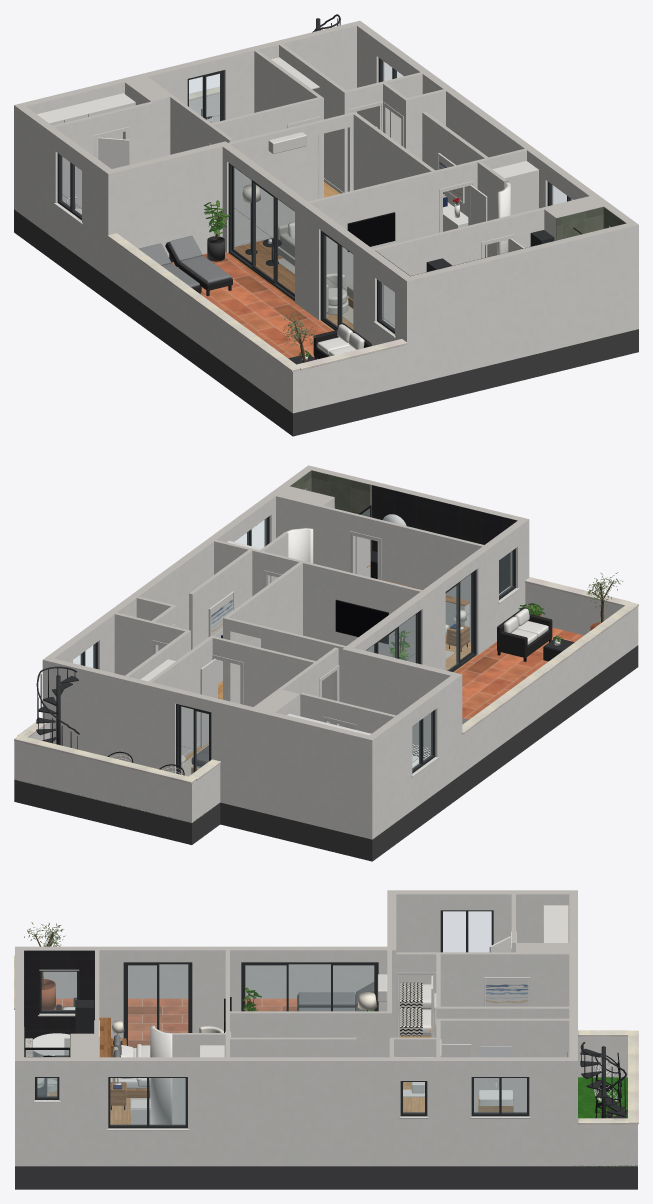
The model's file is villa.glb.
The picture shows the model from 3 angles, top to bottom: view 1: azimuth 30°, elevation 25°; view 2: azimuth 150°, elevation 25°; view 3: azimuth 270°, elevation 25°; orthographic projection. The views are drawn at different scales.
Parts seen in each view (by area): view 1: grupo_Pared_Enlucido_Alto+Pared_Corte_Alto, grupo_Pared_Enlucido+Pared_Corte, grupo_Base_Maqueta, grupo_Lacado_Blanco_Alto, grupo_Suelo_Barro_Cocido, grupo_Albardilla_Piedra, grupo_Aluminio_Grafito_Alto, Muro Oeste Salon slide 3 vidrio, Muro Oeste Salon slide 3 vidrio alto, grupo_Aluminio_Grafito, grupo_Cojin_Gris, grupo_Porcelanico_Oliva_Alto (+11 smaller); view 2: grupo_Pared_Enlucido_Alto+Pared_Corte_Alto, grupo_Pared_Enlucido+Pared_Corte, grupo_Base_Maqueta, grupo_Albardilla_Piedra, grupo_Porcelanico_Negro_Alto, grupo_Suelo_Barro_Cocido, grupo_Lacado_Blanco_Alto, grupo_Aluminio_Grafito_Alto, grupo_Porcelanico_Oliva_Alto, grupo_Antracita, grupo_Rattan_Sintetico, grupo_Aluminio_Grafito (+11 smaller); view 3: grupo_Pared_Enlucido_Alto+Pared_Corte_Alto, grupo_Pared_Enlucido+Pared_Corte, grupo_Base_Maqueta, Muro Oeste Salon slide 3 vidrio alto, grupo_Aluminio_Grafito_Alto, grupo_Suelo_Barro_Cocido, grupo_Lacado_Blanco_Alto, Muro Este window 2 vidrio alto, grupo_Porcelanico_Negro_Alto, Muro Oeste Salon slide 2 vidrio alto, Muro Oeste Dormitorio window 1 vidrio alto, grupo_Albardilla_Piedra (+23 smaller).
Boxes of the visible parts, x1=… form: grupo_Pared_Enlucido_Alto+Pared_Corte_Alto: x1=14, y1=20, x2=638, y2=338; grupo_Pared_Enlucido+Pared_Corte: x1=14, y1=83, x2=638, y2=413; grupo_Base_Maqueta: x1=14, y1=209, x2=638, y2=436; grupo_Lacado_Blanco_Alto: x1=37, y1=57, x2=538, y2=258; grupo_Suelo_Barro_Cocido: x1=171, y1=252, x2=332, y2=359; grupo_Albardilla_Piedra: x1=107, y1=86, x2=407, y2=371; grupo_Aluminio_Grafito_Alto: x1=57, y1=58, x2=571, y2=315; Muro Oeste Salon slide 3 vidrio: x1=234, y1=208, x2=294, y2=293; Muro Oeste Salon slide 3 vidrio alto: x1=234, y1=167, x2=294, y2=251; grupo_Aluminio_Grafito: x1=57, y1=115, x2=394, y2=333; grupo_Cojin_Gris: x1=139, y1=236, x2=230, y2=287; grupo_Porcelanico_Oliva_Alto: x1=556, y1=206, x2=626, y2=240; grupo_Pared_Enlucido_Alto+Pared_Corte_Alto: x1=42, y1=465, x2=529, y2=795; grupo_Pared_Enlucido+Pared_Corte: x1=14, y1=540, x2=638, y2=839; grupo_Base_Maqueta: x1=14, y1=645, x2=638, y2=861; grupo_Albardilla_Piedra: x1=14, y1=577, x2=638, y2=783; grupo_Porcelanico_Negro_Alto: x1=371, y1=485, x2=517, y2=580; grupo_Suelo_Barro_Cocido: x1=455, y1=627, x2=583, y2=719; grupo_Lacado_Blanco_Alto: x1=140, y1=531, x2=381, y2=735; grupo_Aluminio_Grafito_Alto: x1=80, y1=516, x2=515, y2=756; grupo_Porcelanico_Oliva_Alto: x1=290, y1=470, x2=370, y2=516; grupo_Antracita: x1=36, y1=638, x2=574, y2=749; grupo_Rattan_Sintetico: x1=497, y1=607, x2=562, y2=661; grupo_Aluminio_Grafito: x1=176, y1=582, x2=515, y2=774; grupo_Pared_Enlucido_Alto+Pared_Corte_Alto: x1=15, y1=890, x2=577, y2=1119; grupo_Pared_Enlucido+Pared_Corte: x1=15, y1=964, x2=637, y2=1166; grupo_Base_Maqueta: x1=15, y1=1166, x2=637, y2=1189; Muro Oeste Salon slide 3 vidrio alto: x1=245, y1=964, x2=373, y2=1006; grupo_Aluminio_Grafito_Alto: x1=35, y1=910, x2=529, y2=1118; grupo_Suelo_Barro_Cocido: x1=53, y1=998, x2=356, y2=1047; grupo_Lacado_Blanco_Alto: x1=64, y1=905, x2=568, y2=1097; Muro Este window 2 vidrio alto: x1=110, y1=1078, x2=185, y2=1116; grupo_Porcelanico_Negro_Alto: x1=24, y1=950, x2=94, y2=1026; Muro Oeste Salon slide 2 vidrio alto: x1=128, y1=964, x2=187, y2=1006; Muro Oeste Dormitorio window 1 vidrio alto: x1=443, y1=911, x2=491, y2=950; grupo_Albardilla_Piedra: x1=14, y1=955, x2=638, y2=1124.
Size of the model in its own units: 9.16 by 3.2 by 14.1.
82 materials, 31 textured.
